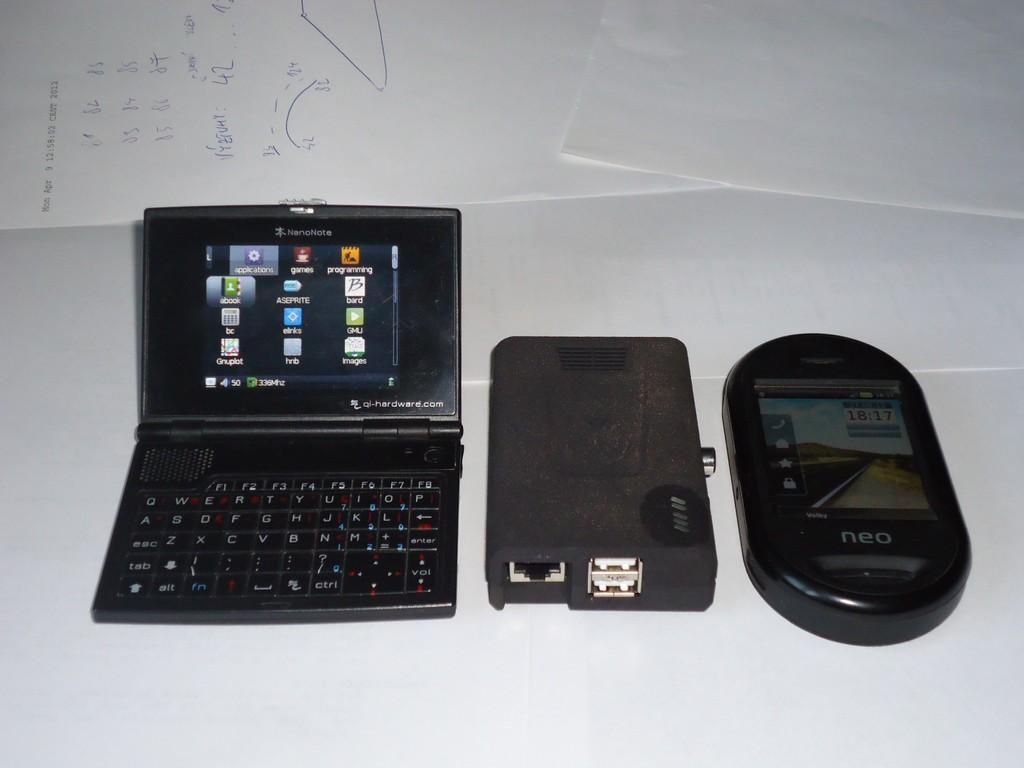Laptop: (94, 205, 464, 622)
